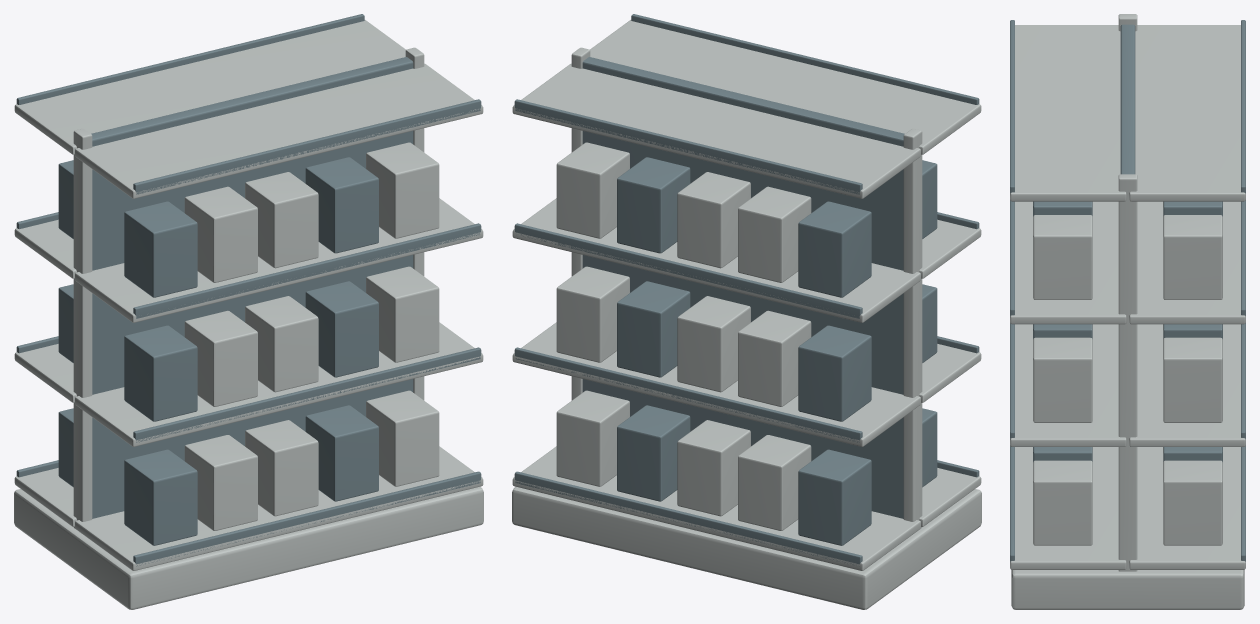
File: store-shelving.glb
The picture shows the model from 3 angles, left to right: view 1: azimuth 30°, elevation 25°; view 2: azimuth 150°, elevation 25°; view 3: azimuth 270°, elevation 25°; orthographic projection.
Visible parts, largest first — view 1: centre_back, shelf.007, gondola_base, shelf.003, shelf.004, shelf.005, upright, shelf.006, product_carton.015, product_carton.025, product_carton.020, product_carton.019 (+23 smaller); view 2: centre_back, shelf.003, gondola_base, shelf.007, shelf.001, shelf, upright, shelf.002, product_carton, product_carton.010, product_carton.005, product_carton.004 (+23 smaller); view 3: shelf.003, shelf.007, gondola_base, upright.001, shelf.002, shelf.006, shelf, shelf.004, shelf.001, shelf.005, product_carton.004, product_carton.019 (+19 smaller).
Part boxes in pixels (x1=…): centre_back: x1=91, y1=57, x2=413, y2=518; shelf.007: x1=75, y1=63, x2=483, y2=198; gondola_base: x1=14, y1=486, x2=483, y2=609; shelf.003: x1=14, y1=20, x2=405, y2=154; shelf.004: x1=75, y1=446, x2=483, y2=570; shelf.005: x1=75, y1=322, x2=483, y2=446; upright: x1=73, y1=128, x2=92, y2=528; shelf.006: x1=75, y1=198, x2=483, y2=322; product_carton.015: x1=124, y1=449, x2=197, y2=545; product_carton.025: x1=124, y1=201, x2=197, y2=297; product_carton.020: x1=124, y1=325, x2=197, y2=421; product_carton.019: x1=366, y1=390, x2=439, y2=486; centre_back: x1=582, y1=57, x2=904, y2=518; shelf.003: x1=512, y1=63, x2=920, y2=198; gondola_base: x1=512, y1=486, x2=981, y2=609; shelf.007: x1=590, y1=20, x2=981, y2=154; shelf.001: x1=512, y1=322, x2=920, y2=446; shelf: x1=512, y1=446, x2=920, y2=570; upright: x1=903, y1=128, x2=922, y2=528; shelf.002: x1=512, y1=198, x2=920, y2=322; product_carton: x1=798, y1=449, x2=871, y2=545; product_carton.010: x1=798, y1=201, x2=871, y2=297; product_carton.005: x1=798, y1=325, x2=871, y2=421; product_carton.004: x1=556, y1=390, x2=629, y2=486; shelf.003: x1=1129, y1=25, x2=1245, y2=201; shelf.007: x1=1010, y1=25, x2=1126, y2=201; gondola_base: x1=1011, y1=570, x2=1244, y2=609; upright.001: x1=1118, y1=174, x2=1137, y2=571; shelf.002: x1=1129, y1=201, x2=1245, y2=324; shelf.006: x1=1010, y1=201, x2=1126, y2=324; shelf: x1=1129, y1=447, x2=1245, y2=569; shelf.004: x1=1010, y1=447, x2=1126, y2=569; shelf.001: x1=1129, y1=324, x2=1245, y2=446; shelf.005: x1=1010, y1=324, x2=1126, y2=446; product_carton.004: x1=1163, y1=460, x2=1222, y2=545; product_carton.019: x1=1033, y1=460, x2=1092, y2=545.
Bounding box in the file's own units: 1.5 × 1.75 × 0.87.
